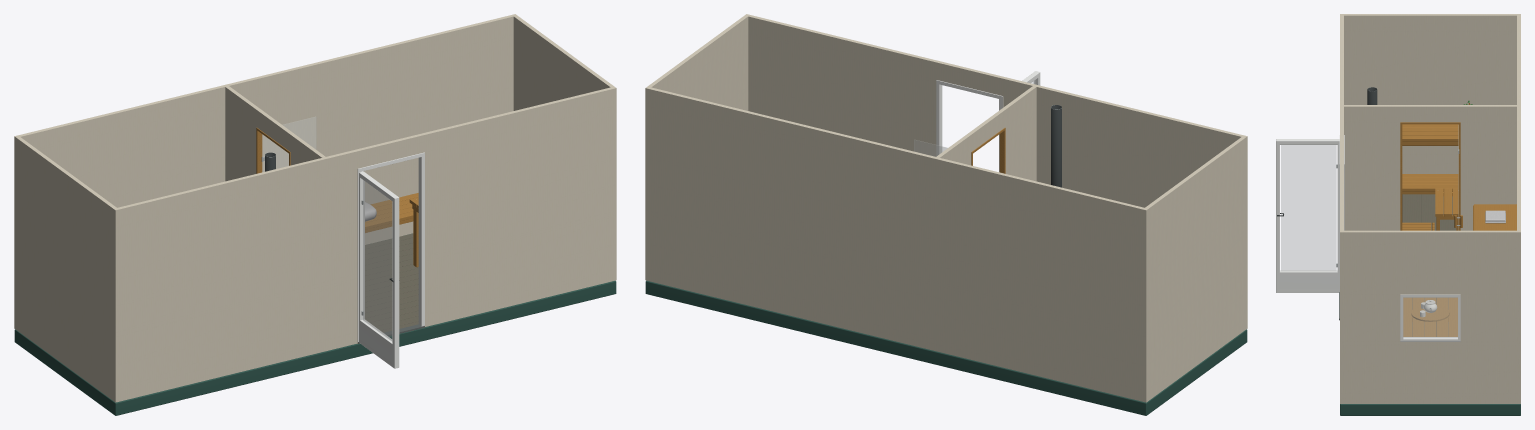
The picture shows the model from 3 angles, left to right: view 1: azimuth 30°, elevation 25°; view 2: azimuth 150°, elevation 25°; view 3: azimuth 270°, elevation 25°; orthographic projection. The views are drawn at different scales.
Visible parts, largest first — view 1: Wall front band 6, Wall rear band 6, Wall front band 2, Wall front band 5, Wall front band 4, Wall front band 1, Wall front band 7, Wall rear band 7, Wall rear band 5, Foundation, Wall front band 0, Wall left band 6 (+19 smaller); view 2: Wall rear band 6, Wall front band 6, Wall rear band 2, Wall rear band 4, Wall rear band 5, Wall rear band 1, Wall rear band 7, Wall front band 7, Foundation, Wall front band 5, Wall rear band 0, Wall left band 6 (+12 smaller); view 3: Wall left band 6, Wall right band 6, Single PVC glass panel, Wall top_3_0003 band 6, Wall right band 2, Wall left band 5, Wall right band 1, Wall left band 7, Wall right band 7, Wall top_3_0003 band 7, Wall right band 4, Wall right band 5 (+38 smaller).
Part boxes in pixels (x1,y1,x2,y2): Wall front band 6: (113, 105, 616, 280); Wall rear band 6: (14, 34, 513, 207); Wall front band 2: (113, 215, 616, 365); Wall front band 5: (113, 158, 616, 306); Wall front band 4: (113, 184, 616, 332); Wall front band 1: (113, 243, 616, 390); Wall front band 7: (113, 86, 616, 227); Wall rear band 7: (14, 14, 516, 154); Wall rear band 5: (14, 86, 513, 233); Foundation: (14, 280, 616, 415); Wall front band 0: (113, 268, 616, 402); Wall left band 6: (16, 156, 113, 278); Wall rear band 6: (645, 105, 1148, 280); Wall front band 6: (748, 34, 1247, 207); Wall rear band 2: (645, 215, 1148, 365); Wall rear band 4: (645, 184, 1148, 332); Wall rear band 5: (645, 158, 1148, 306); Wall rear band 1: (645, 243, 1148, 390); Wall rear band 7: (645, 86, 1148, 227); Wall front band 7: (745, 14, 1247, 154); Foundation: (645, 280, 1247, 415); Wall front band 5: (748, 86, 1247, 233); Wall rear band 0: (645, 268, 1148, 402); Wall left band 6: (1148, 156, 1245, 278); Wall left band 6: (1344, 31, 1516, 77); Wall right band 6: (1344, 248, 1516, 294); Single PVC glass panel: (1281, 145, 1336, 270); Wall top_3_0003 band 6: (1344, 122, 1516, 168); Wall right band 2: (1344, 345, 1516, 371); Wall left band 5: (1344, 78, 1516, 101); Wall right band 1: (1344, 371, 1516, 393); Wall left band 7: (1344, 14, 1516, 31); Wall right band 7: (1344, 230, 1516, 247); Wall top_3_0003 band 7: (1344, 105, 1516, 122); Wall right band 4: (1344, 318, 1516, 341); Wall right band 5: (1344, 294, 1516, 317).
Bounding box in the file's own units: 6.01 × 2.36 × 2.84.
Materials: 33 (14 with a texture image).
